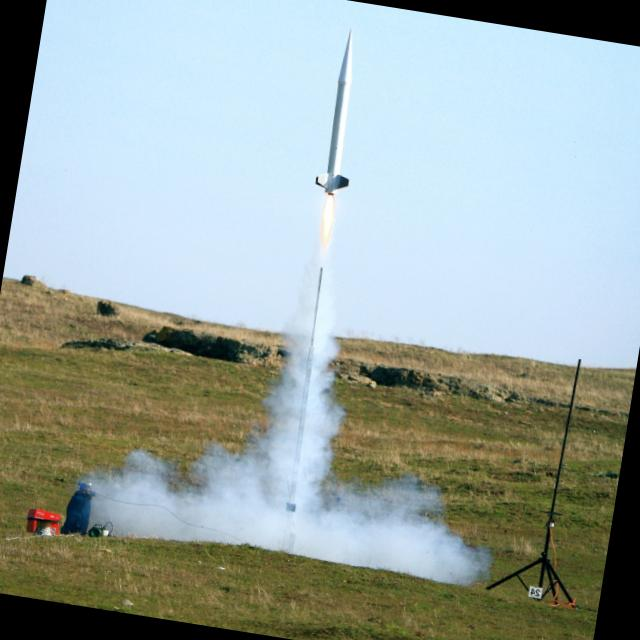rocket: (304, 18, 378, 281)
